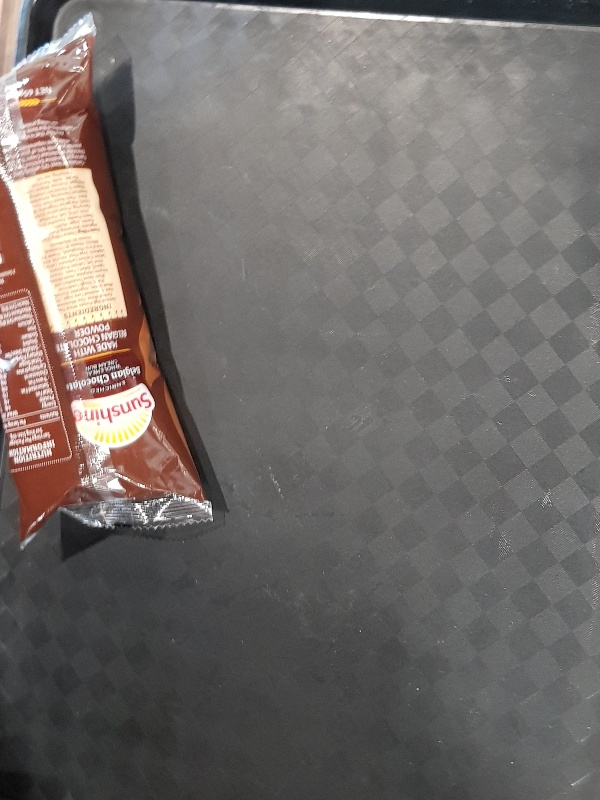Sunshine Belgium Chocolate Wholemeal Cream Bun: (1, 11, 214, 553)
